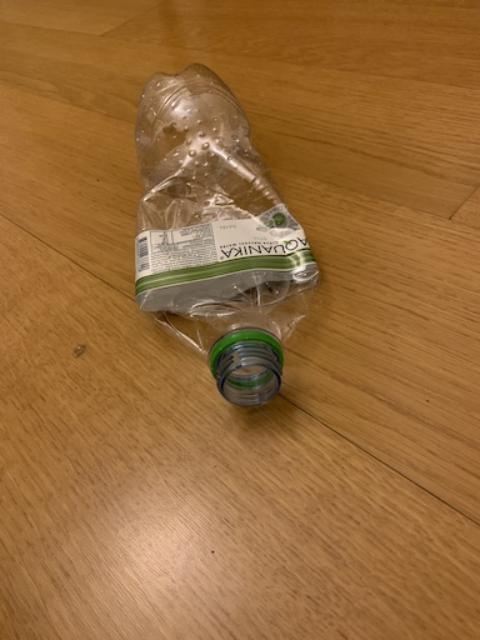plastic: (134, 62, 316, 404)
